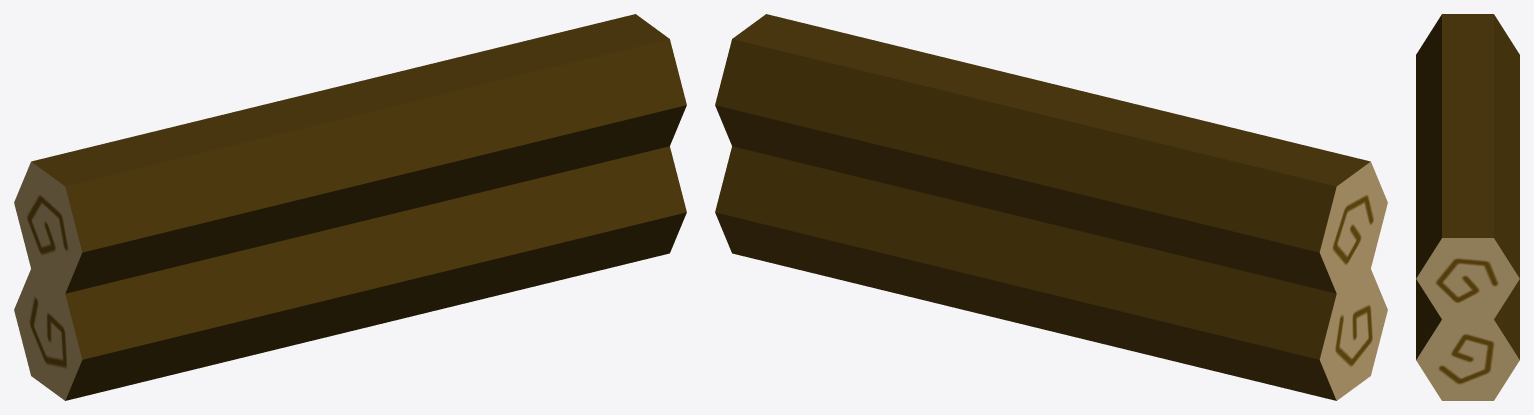
The model's file is Wall_4x2.fbx.
3 renders of one model, left to right at view 1: azimuth 30°, elevation 25°; view 2: azimuth 150°, elevation 25°; view 3: azimuth 270°, elevation 25°, orthographic. The views are drawn at different scales.
Parts seen in each view (by area): view 1: Wall_4x2; view 2: Wall_4x2; view 3: Wall_4x2.
Part boxes in pixels (left/top/right/bottom): Wall_4x2: left=14, top=14, right=686, bottom=400; Wall_4x2: left=715, top=14, right=1387, bottom=400; Wall_4x2: left=1416, top=14, right=1519, bottom=400.
Bounding box in the file's own units: 10.22 × 3.46 × 2.
